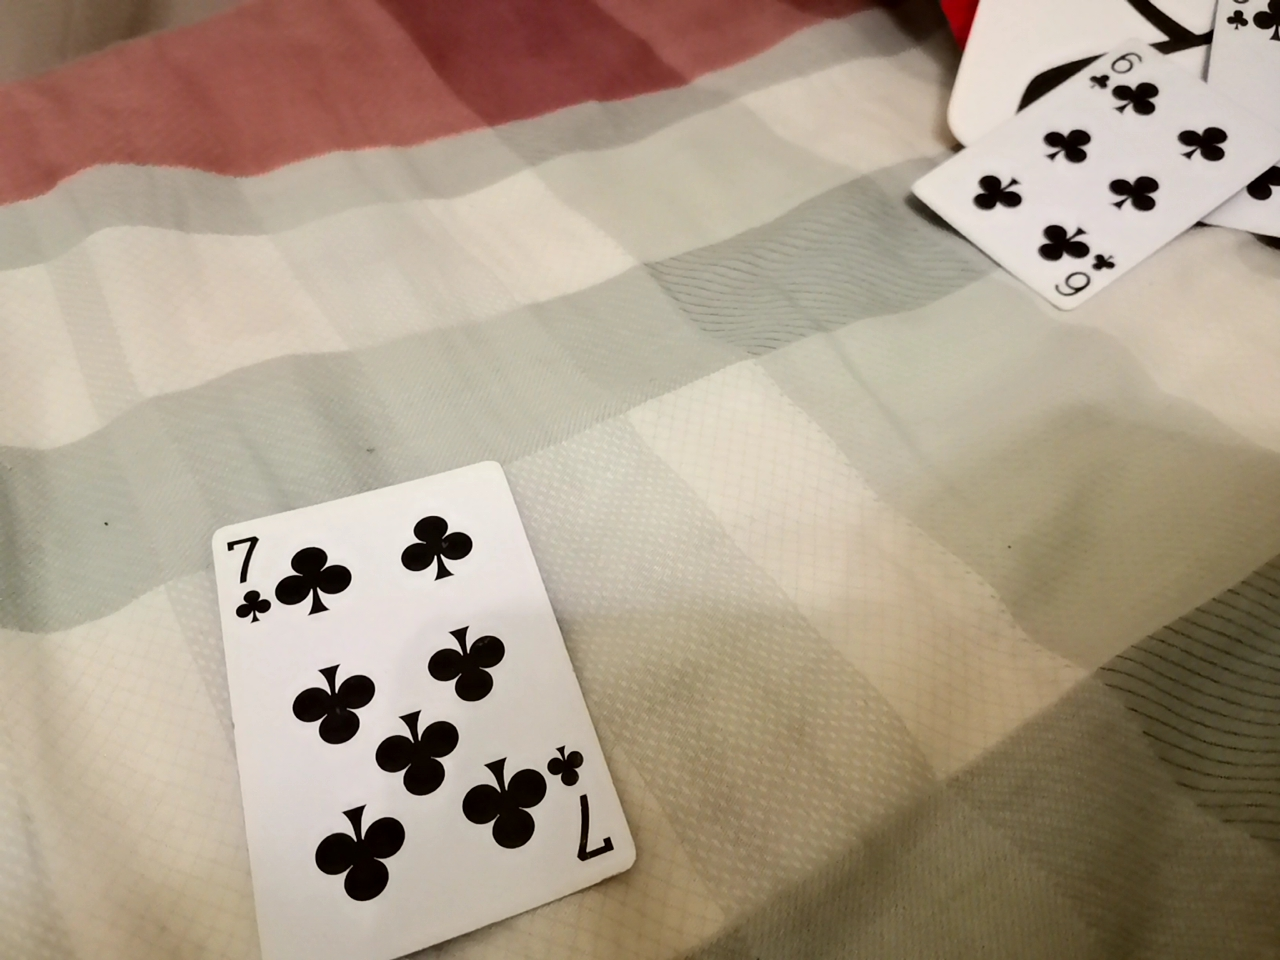mh 7: (215, 466, 609, 949)
